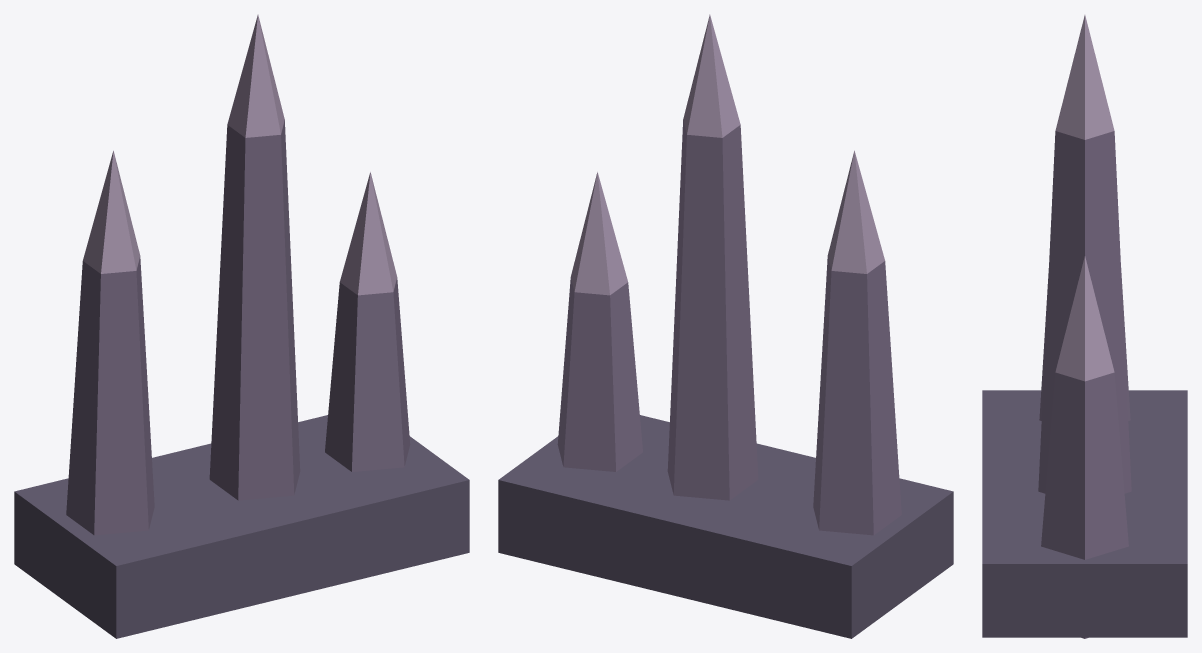
Rendered from map-exclusive-v3__dragon_10.glb.
3 views of the same model, side by side, from view 1: azimuth 30°, elevation 25°; view 2: azimuth 150°, elevation 25°; view 3: azimuth 270°, elevation 25° (orthographic).
Visible parts, largest first — view 1: dragon_10; view 2: dragon_10; view 3: dragon_10.
Boxes of the visible parts, bbox=[...] form: dragon_10: bbox=[14, 14, 469, 638]; dragon_10: bbox=[498, 14, 953, 638]; dragon_10: bbox=[982, 15, 1187, 638].
Size of the model in its own units: 1.32 by 1.94 by 0.66.
